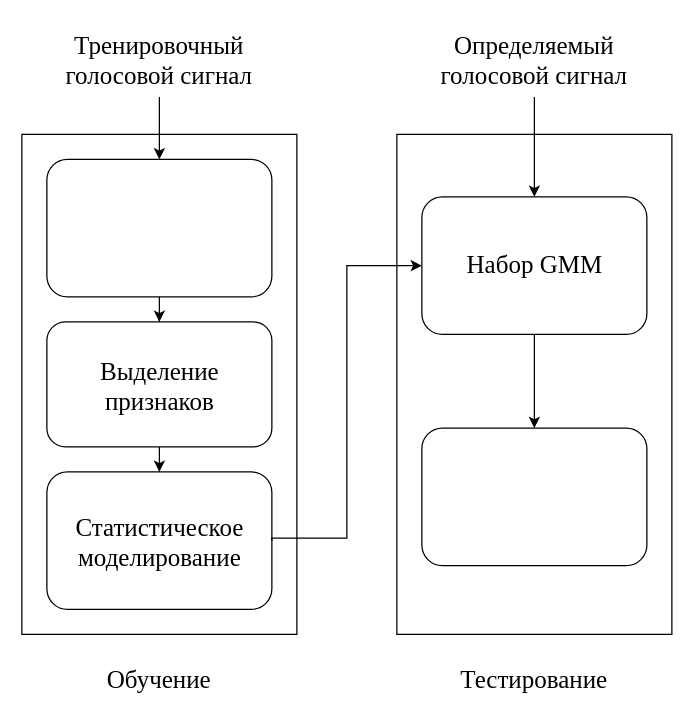
Some shapes in this 694 by 718 pixel diagram are drawn without their labels. The centre of each missing label's shape, as x and y in pixels:
Определение говорящего: point (534, 496)
Предварительная обработка: point (159, 227)
